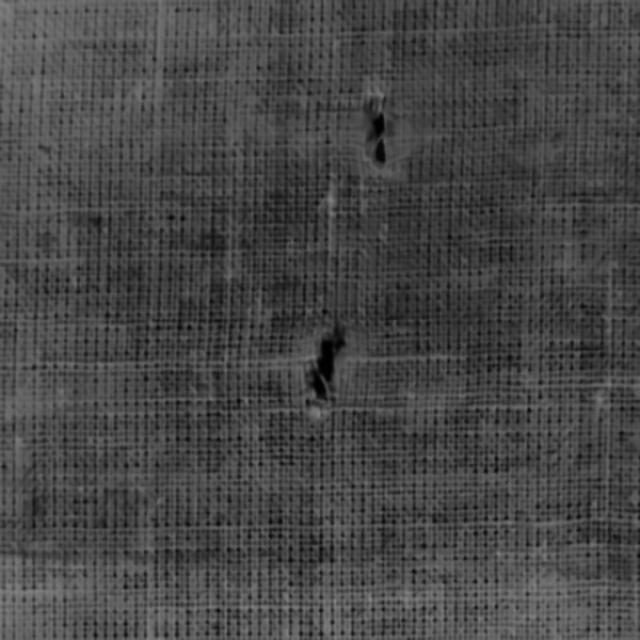other: (294, 320, 356, 414), (356, 84, 402, 172)
